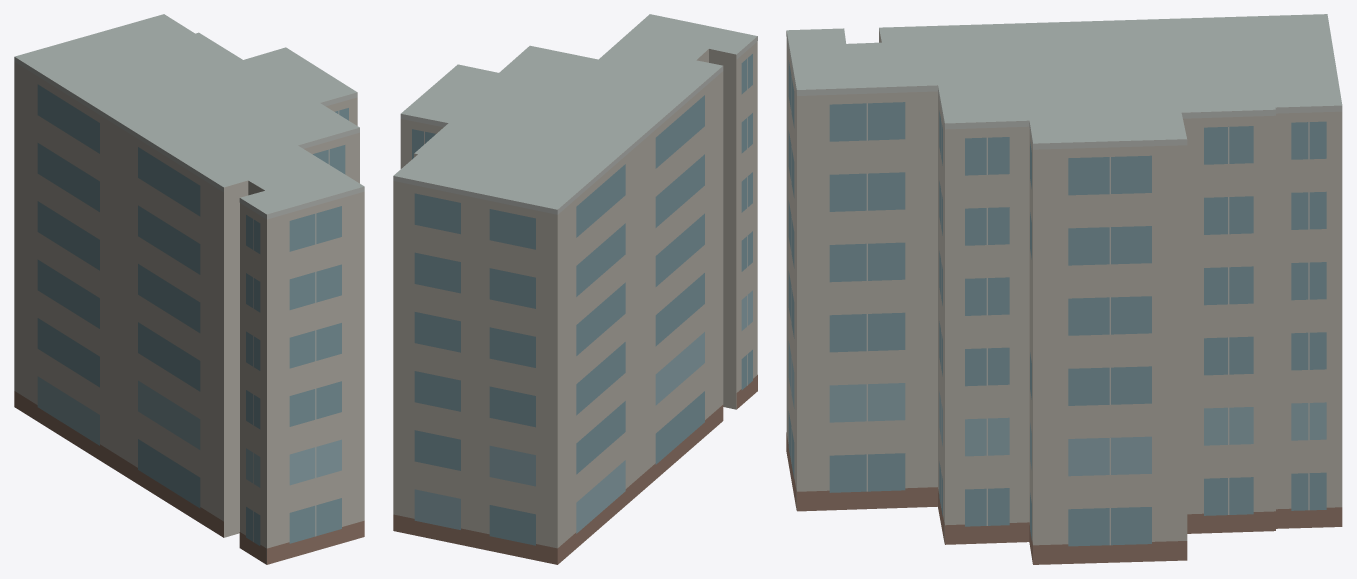
File: survey-upis-33029916.glb
The picture shows the model from 3 angles, left to right: view 1: azimuth 30°, elevation 25°; view 2: azimuth 150°, elevation 25°; view 3: azimuth 270°, elevation 25°; orthographic projection. The views are drawn at different scales.
Visible parts, largest first — view 1: survey-upis-33029916.tmp; view 2: survey-upis-33029916.tmp; view 3: survey-upis-33029916.tmp.
Part boxes in pixels (x1,y1,x2,y2): survey-upis-33029916.tmp: [14, 14, 364, 564]; survey-upis-33029916.tmp: [393, 14, 757, 564]; survey-upis-33029916.tmp: [786, 14, 1342, 564].
Bounding box in the file's own units: 11.23 × 17 × 20.34.
